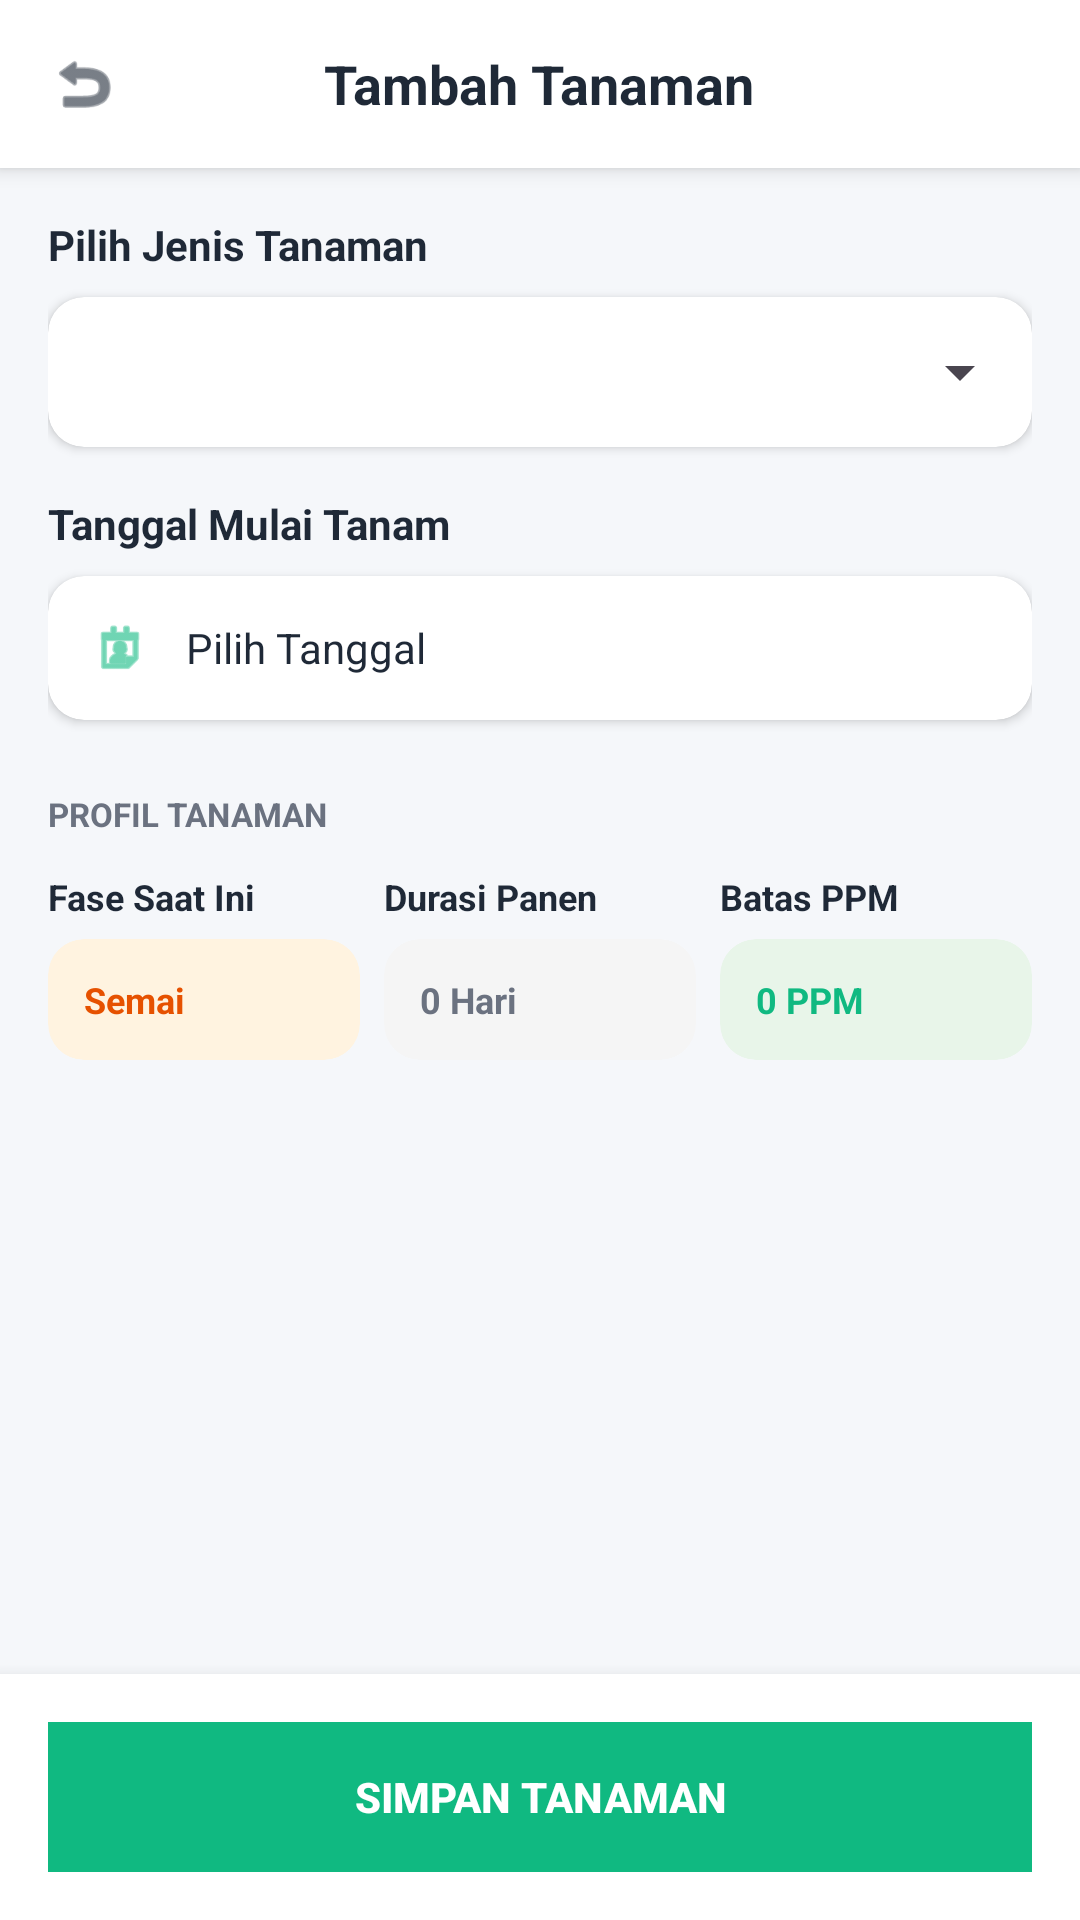

Screen size 1080w x 1920h. Icon name, then its box in pixels as (x1, y1, x2, y2):
calendar: (100, 625, 140, 669)
Kembali: (59, 61, 111, 108)
